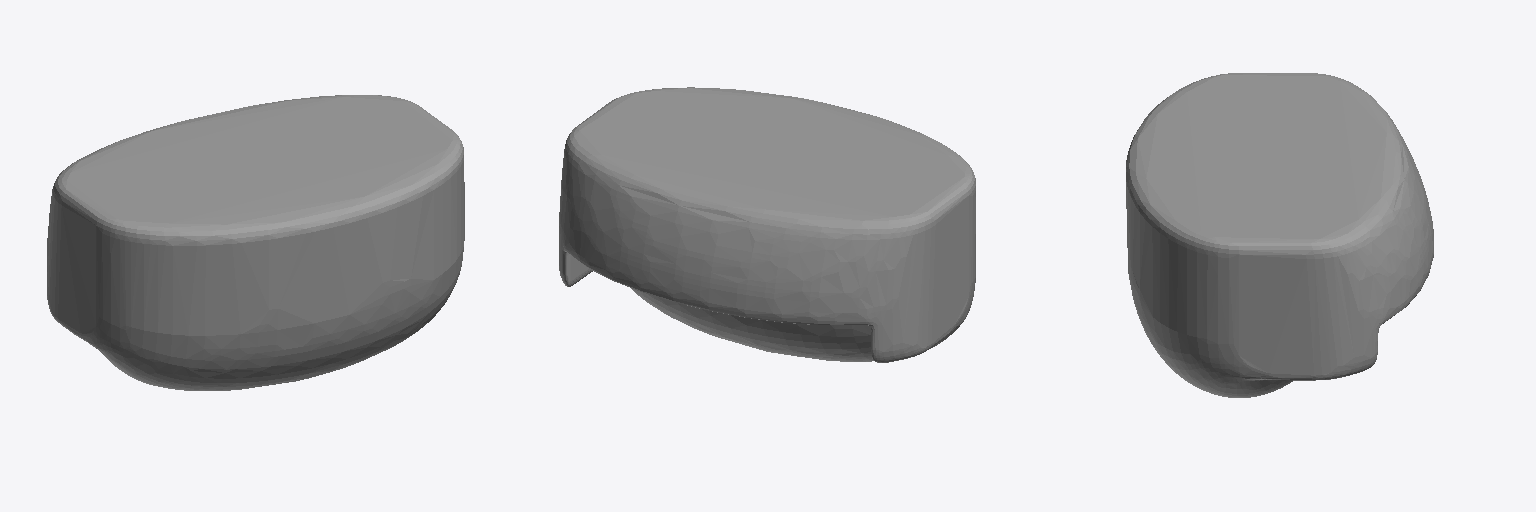
Rendered from bench.obj.
3 views of the same model, side by side, from view 1: azimuth 30°, elevation 25°; view 2: azimuth 150°, elevation 25°; view 3: azimuth 270°, elevation 25° (orthographic).
Parts seen in each view (by area): view 1: 15379_Abstract_Bench; view 2: 15379_Abstract_Bench; view 3: 15379_Abstract_Bench.
Part boxes in pixels (x1,y1,x2,y2): 15379_Abstract_Bench: (47,95,464,390); 15379_Abstract_Bench: (559,87,975,362); 15379_Abstract_Bench: (1126,73,1433,397).
Size of the model in its own units: 5.04 by 2.63 by 3.72.